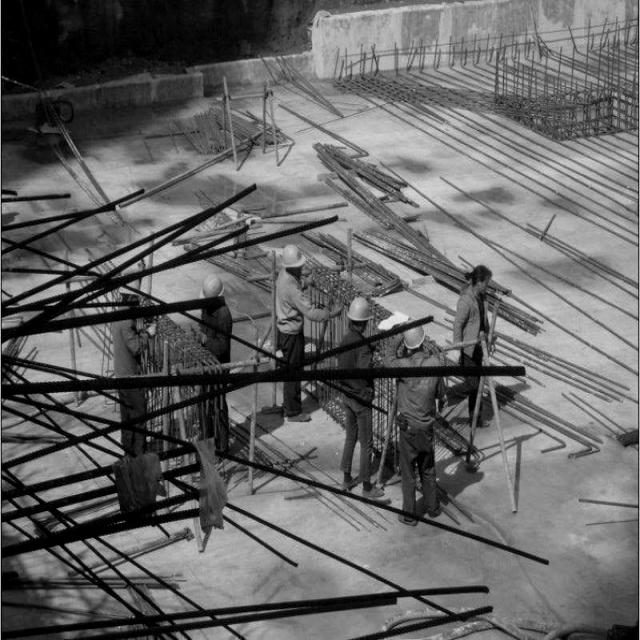face_nomask: (478, 279, 491, 301)
head_helmet: (347, 296, 376, 319), (402, 322, 426, 349), (283, 244, 306, 266), (118, 275, 141, 297), (202, 274, 224, 296)
head_nohelmet: (466, 262, 489, 281)
person: (396, 320, 443, 511), (338, 296, 379, 488), (276, 237, 314, 417), (114, 275, 148, 455), (198, 269, 232, 448), (454, 267, 495, 407)
shoes: (285, 407, 313, 426), (339, 468, 360, 491), (360, 484, 386, 501), (397, 505, 418, 526)
